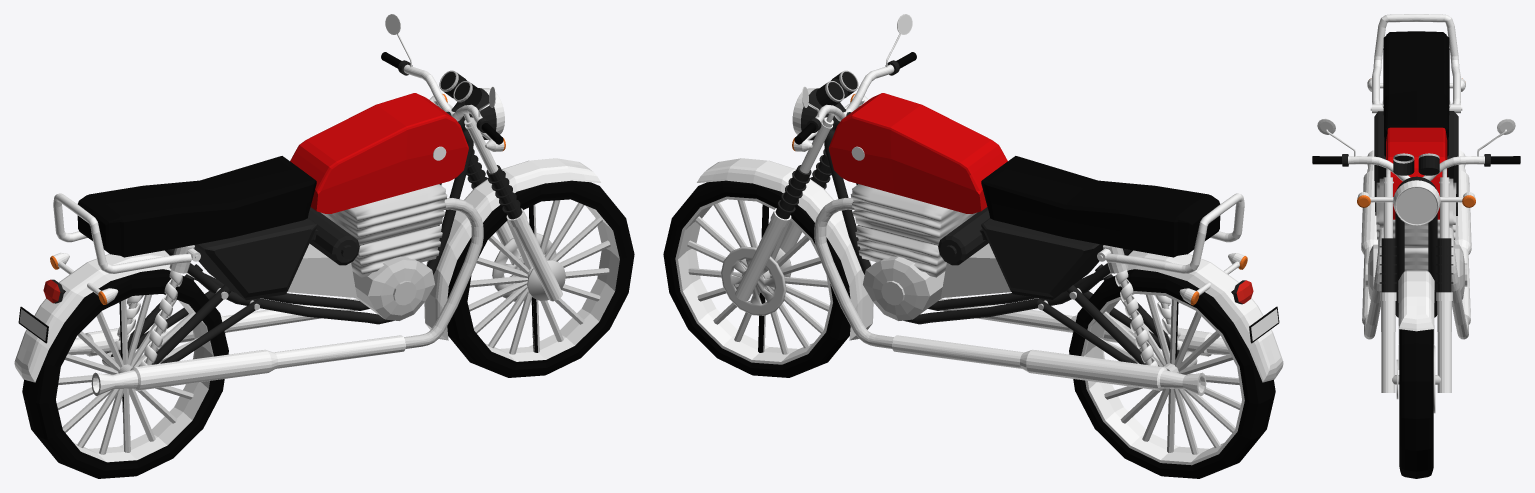
Rendered from motor.fbx.
3 views of the same model, side by side, from view 1: azimuth 30°, elevation 25°; view 2: azimuth 150°, elevation 25°; view 3: azimuth 270°, elevation 25° (orthographic). The views are drawn at different scales.
Visible parts, largest first — view 1: back_wheel, Front_wheel, seat, tank, exhaust, engine_1, engine_2, Front_water, back_water, frame, front_bumper, engine_4 (+11 smaller); view 2: back_wheel, Front_wheel, seat, tank, exhaust, engine_1, engine_2, Front_water, back_water, frame, front_bumper, engine_4 (+11 smaller); view 3: seat, front_bumper, Front_wheel, exhaust, tank, Front_water, engine_1, fender_back, Headlight, steering, frame, engine_2 (+7 smaller).
Boxes of the visible parts, left/top/right/bottom form: back_wheel: left=22, top=269, right=228, bottom=478; Front_wheel: left=447, top=180, right=634, bottom=377; seat: left=77, top=156, right=316, bottom=257; tank: left=290, top=93, right=468, bottom=213; exhaust: left=68, top=198, right=483, bottom=395; engine_1: left=321, top=184, right=447, bottom=277; engine_2: left=194, top=218, right=318, bottom=300; Front_water: left=424, top=158, right=600, bottom=340; back_water: left=14, top=250, right=223, bottom=382; frame: left=165, top=128, right=473, bottom=324; front_bumper: left=433, top=97, right=562, bottom=301; engine_4: left=352, top=256, right=434, bottom=320; back_wheel: left=1069, top=269, right=1275, bottom=478; Front_wheel: left=663, top=180, right=850, bottom=377; seat: left=981, top=156, right=1220, bottom=257; tank: left=828, top=93, right=1007, bottom=213; exhaust: left=814, top=198, right=1229, bottom=395; engine_1: left=850, top=184, right=976, bottom=277; engine_2: left=980, top=218, right=1103, bottom=299; Front_water: left=697, top=158, right=873, bottom=340; back_water: left=1074, top=250, right=1283, bottom=382; frame: left=824, top=128, right=1132, bottom=324; front_bumper: left=735, top=97, right=864, bottom=301; engine_4: left=863, top=256, right=945, bottom=320; seat: left=1383, top=31, right=1449, bottom=156; front_bumper: left=1379, top=168, right=1453, bottom=392; Front_wheel: left=1399, top=329, right=1433, bottom=478; exhaust: left=1361, top=150, right=1471, bottom=339; tank: left=1386, top=127, right=1447, bottom=219; Front_water: left=1398, top=270, right=1434, bottom=369; engine_1: left=1376, top=178, right=1456, bottom=270; fender_back: left=1372, top=14, right=1460, bottom=104; Headlight: left=1393, top=176, right=1440, bottom=225; steering: left=1312, top=154, right=1520, bottom=181; frame: left=1395, top=212, right=1437, bottom=317; engine_2: left=1374, top=111, right=1458, bottom=196.
Size of the model in its own units: 739 by 401 by 243.
